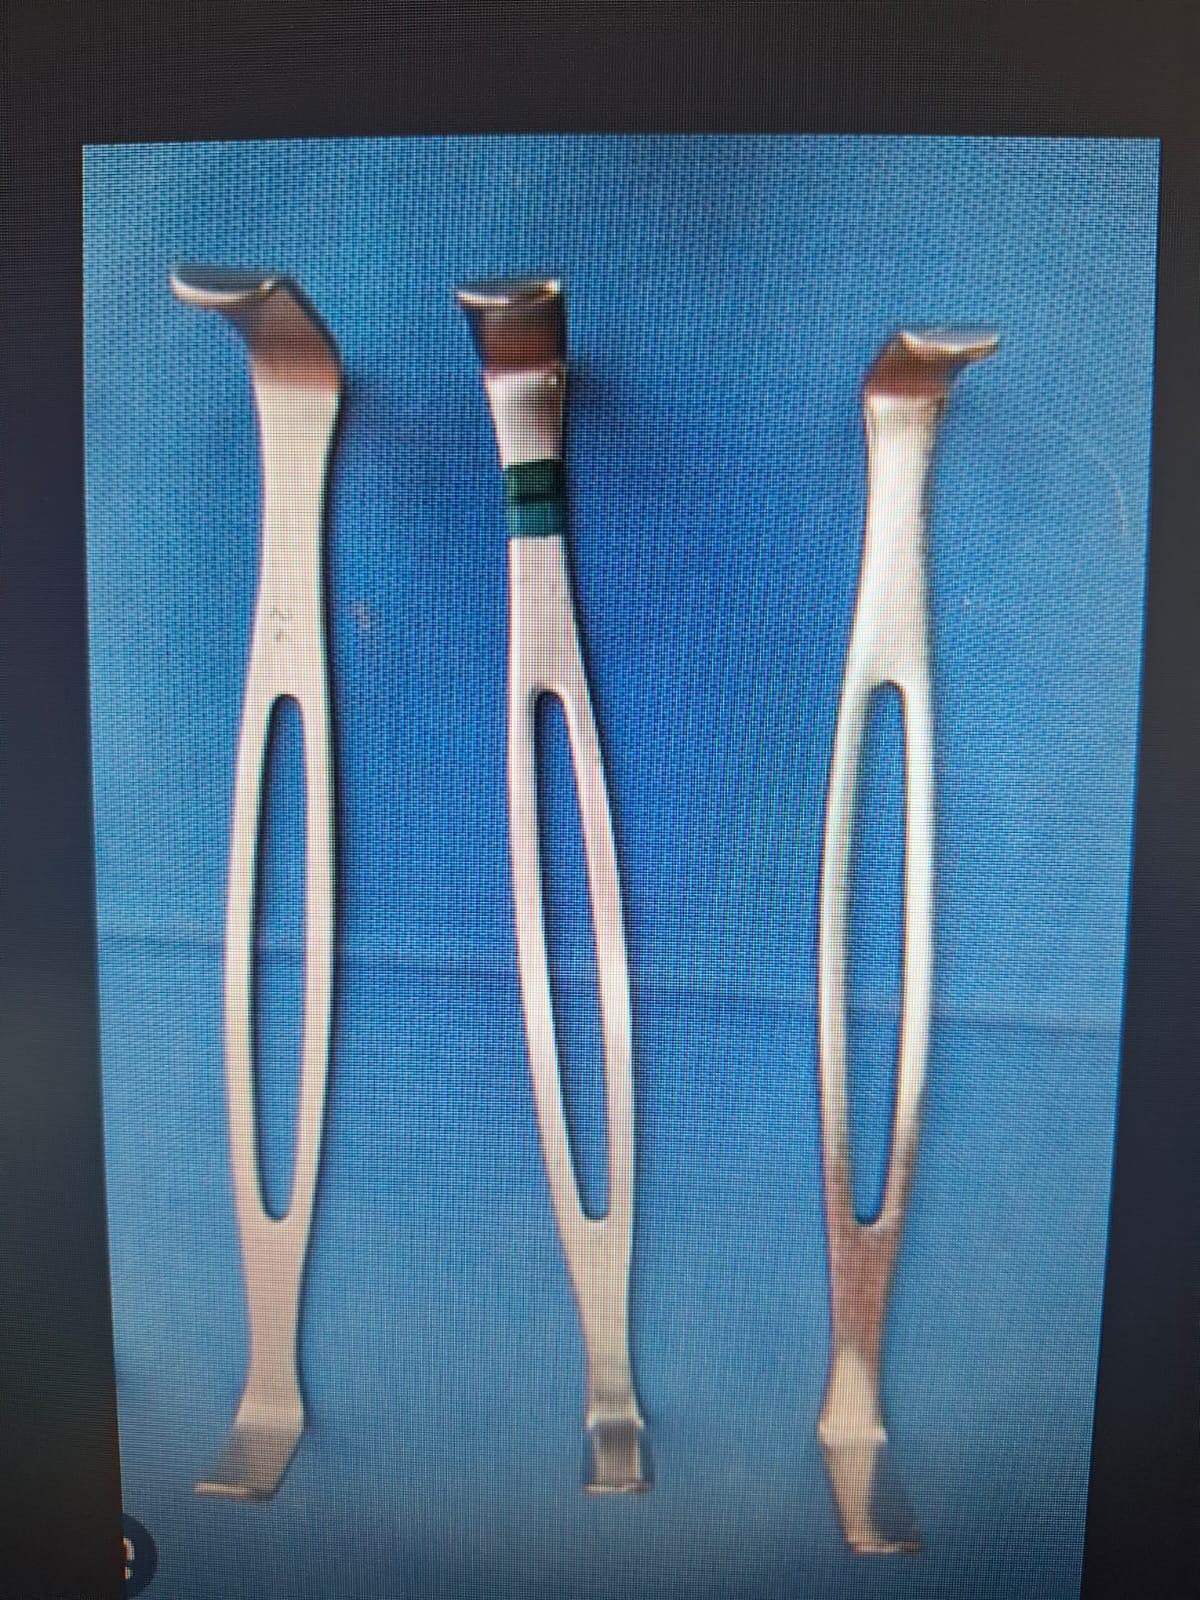Army Navy Retractor: (150, 236, 405, 1511), (775, 307, 1005, 1570)
